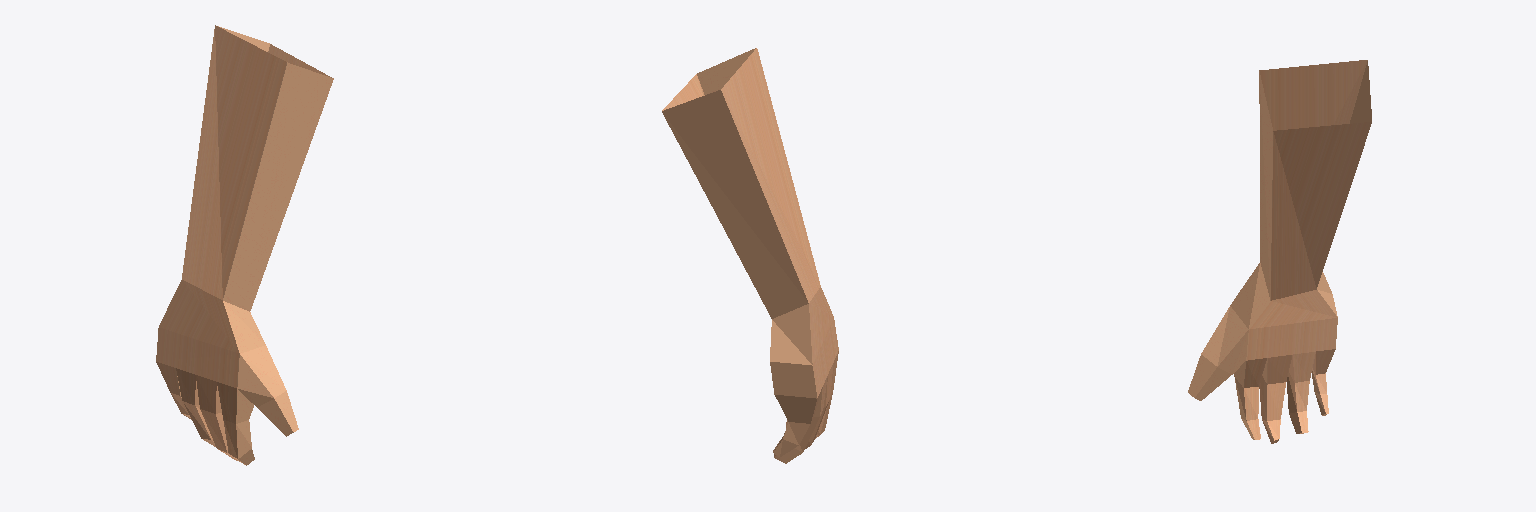
The picture shows the model from 3 angles: view 1: azimuth 30°, elevation 25°; view 2: azimuth 150°, elevation 25°; view 3: azimuth 270°, elevation 25°; orthographic projection.
Visible parts, largest first — view 1: Cube.007; view 2: Cube.007; view 3: Cube.007.
Part boxes in pixels (bbox=[...]): Cube.007: bbox=[156, 25, 333, 465]; Cube.007: bbox=[662, 48, 838, 463]; Cube.007: bbox=[1188, 60, 1371, 443].
Bounding box in the file's own units: 0.2912 × 0.7379 × 0.3121.
Materials: 1 (1 with a texture image).